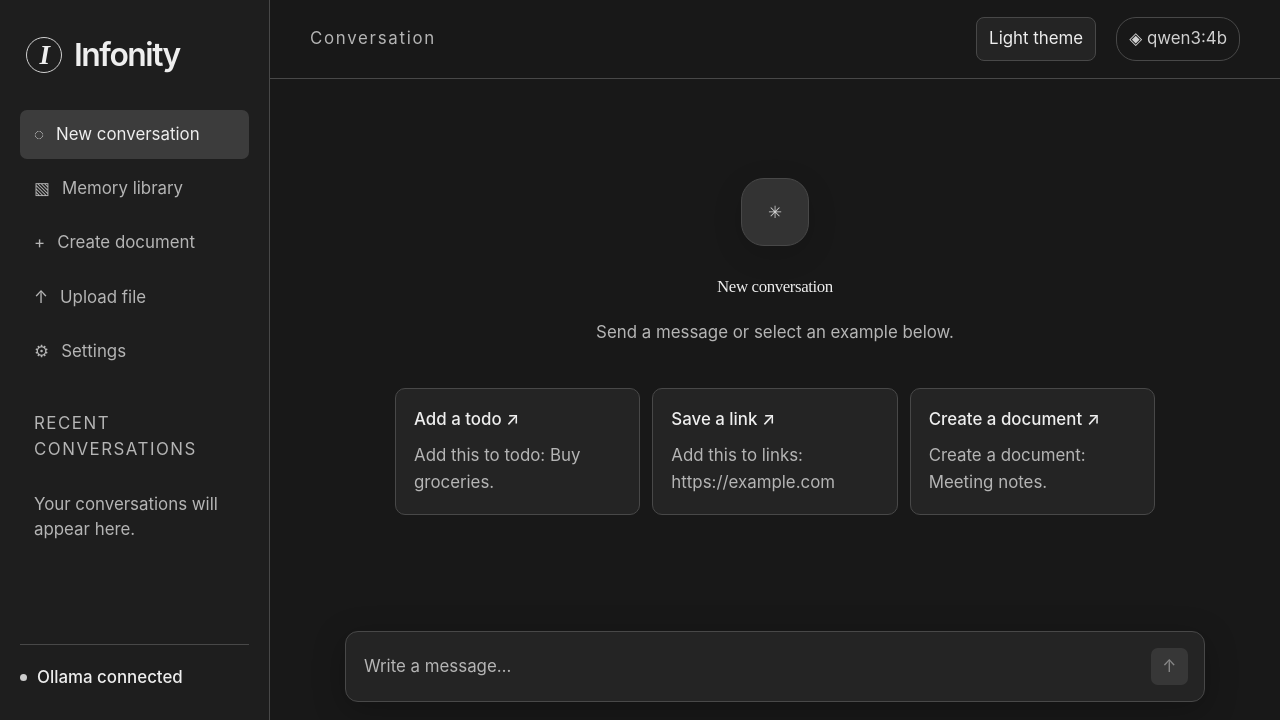
Test: local AI workflows › opens a document dialog and handles Create document
Expected: the text "Ollama connected" is shown, top-left (37, 665), bottom-right (183, 690)
Type "Create a document called \"JEE\"" into the field labelled "message" at (750, 666), box top-left (362, 650), bottom-right (1138, 683)
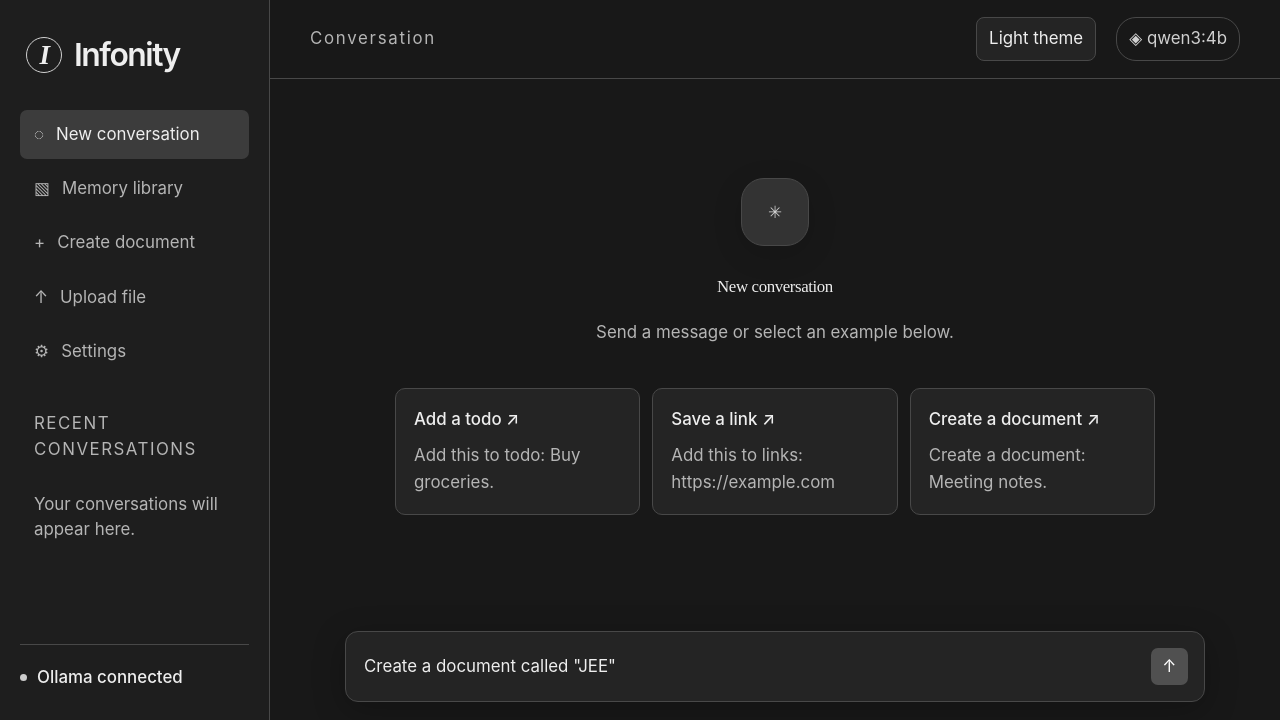
Click the button named "Send message" at (1169, 666), box top-left (1150, 648), bottom-right (1188, 685)
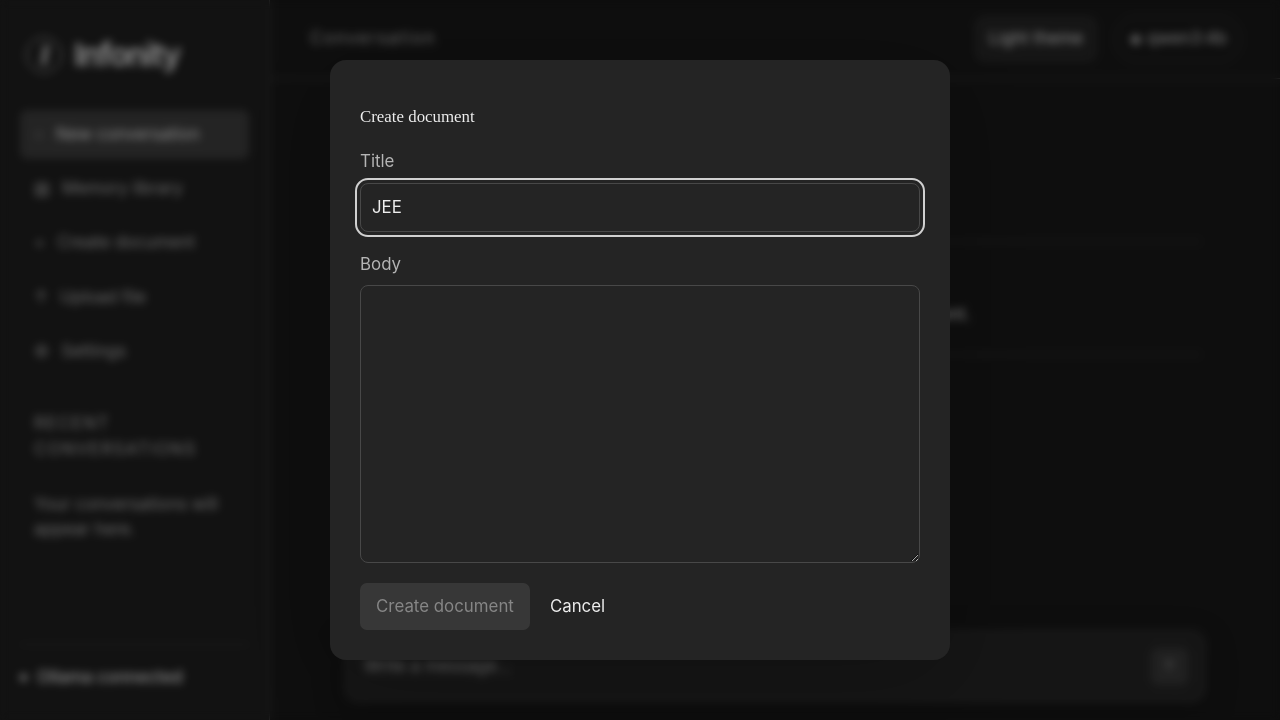
Expected: the field labelled "Title" holds "JEE", top-left (360, 183), bottom-right (920, 232)
Expected: the button "Create document" is disabled, top-left (360, 582), bottom-right (530, 630)
Type "These are my document notes." into the text box labelled "Body" at (640, 424), box top-left (360, 285), bottom-right (920, 562)
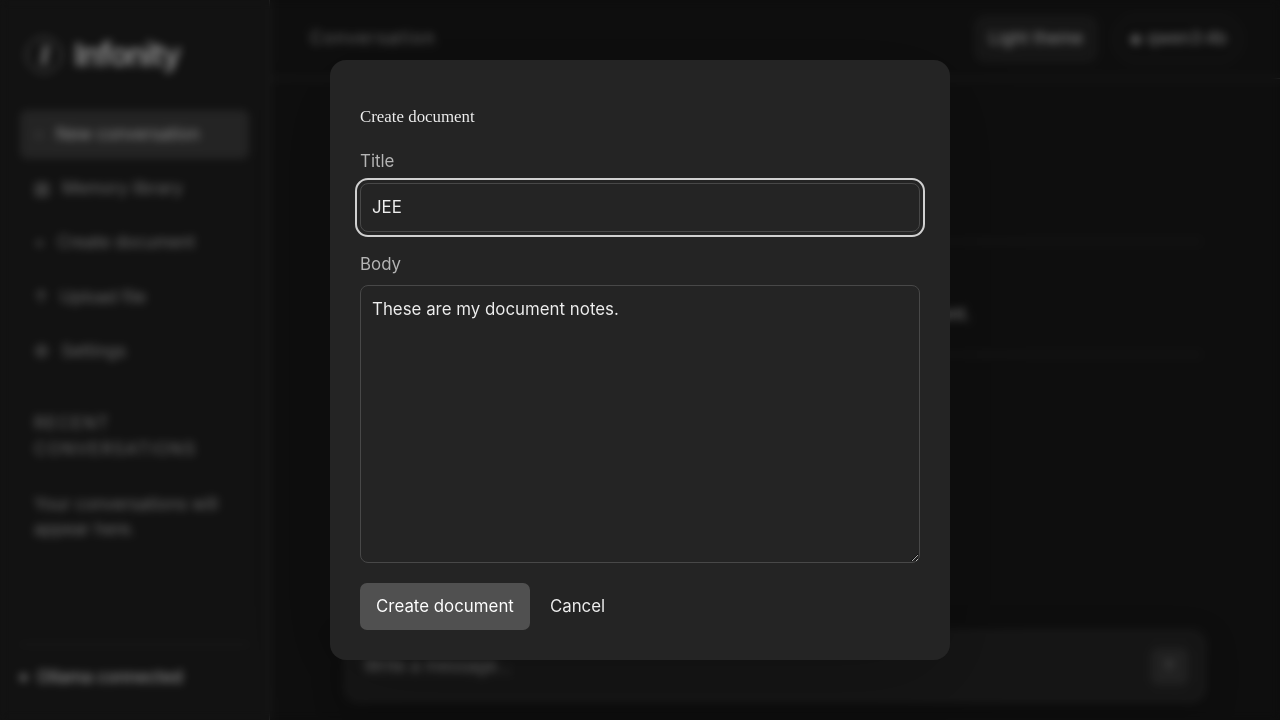
Click the button "Create document" at (445, 606), box top-left (360, 582), bottom-right (530, 630)
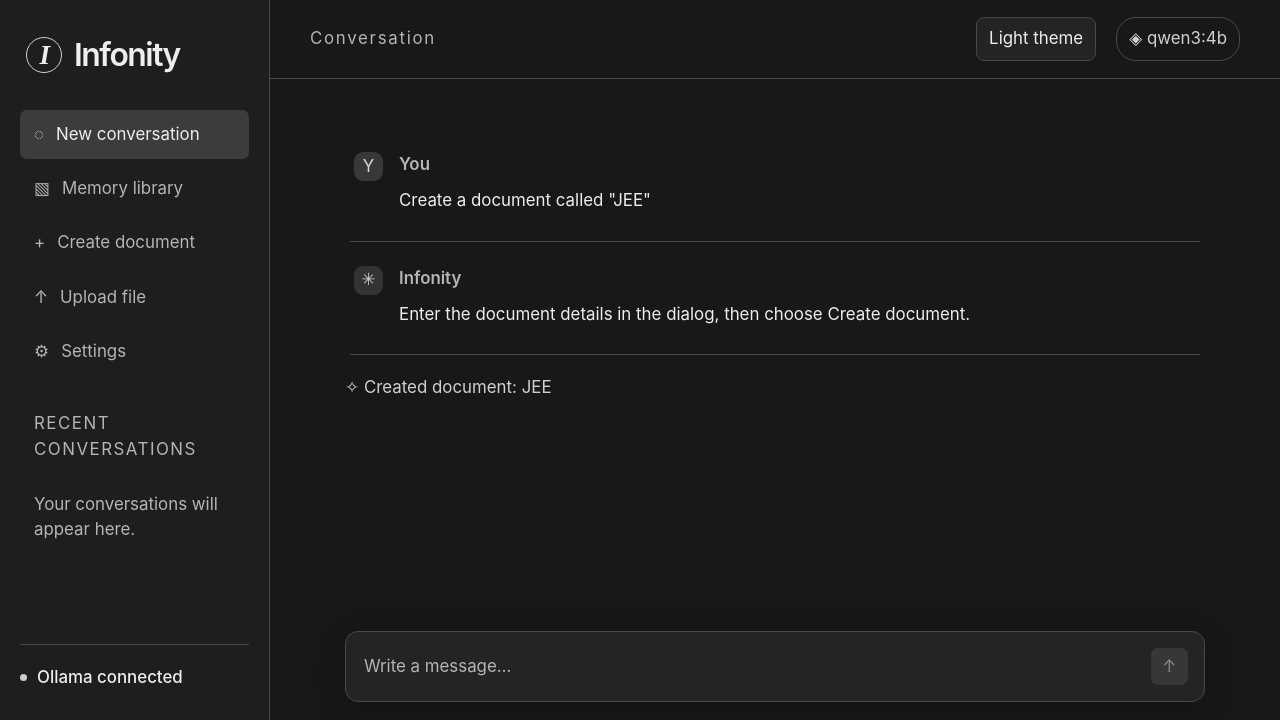
Expected: the text "✧ Created document: JEE" is shown, top-left (345, 377), bottom-right (552, 397)
